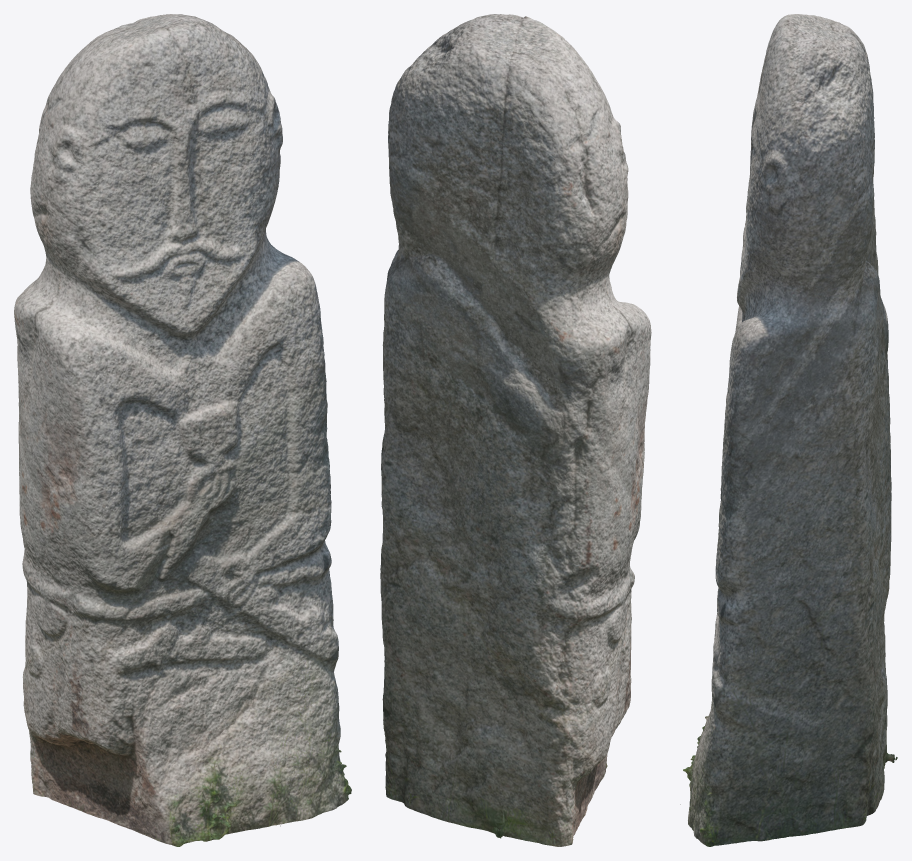
Rendered from balbalTASTAR.glb.
The picture shows the model from 3 angles, left to right: view 1: azimuth 30°, elevation 25°; view 2: azimuth 150°, elevation 25°; view 3: azimuth 270°, elevation 25°; orthographic projection. The views are drawn at different scales.
Parts seen in each view (by area): view 1: Object_4, Object_2, Object_3, Object_5, Object_6; view 2: Object_2, Object_4, Object_3, Object_5, Object_6; view 3: Object_3, Object_2, Object_4, Object_5, Object_6.
Boxes of the visible parts, x1=… form: Object_4: x1=19, y1=14, x2=351, y2=843; Object_2: x1=14, y1=36, x2=336, y2=839; Object_3: x1=14, y1=14, x2=349, y2=841; Object_5: x1=14, y1=15, x2=349, y2=846; Object_6: x1=18, y1=14, x2=350, y2=843; Object_2: x1=384, y1=25, x2=648, y2=846; Object_4: x1=381, y1=14, x2=650, y2=836; Object_3: x1=380, y1=14, x2=651, y2=845; Object_5: x1=380, y1=14, x2=650, y2=846; Object_6: x1=380, y1=14, x2=650, y2=842; Object_3: x1=683, y1=15, x2=891, y2=846; Object_2: x1=688, y1=14, x2=890, y2=846; Object_4: x1=687, y1=14, x2=891, y2=845; Object_5: x1=683, y1=14, x2=897, y2=846; Object_6: x1=680, y1=18, x2=896, y2=845.
Bounding box in the file's own units: 2.65 × 7.36 × 1.91.
1 material, 1 textured.
